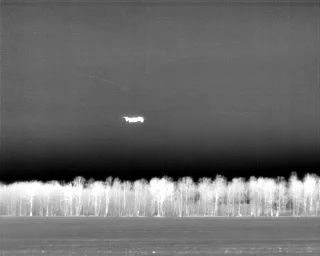DRONE: (120, 111, 148, 128)
